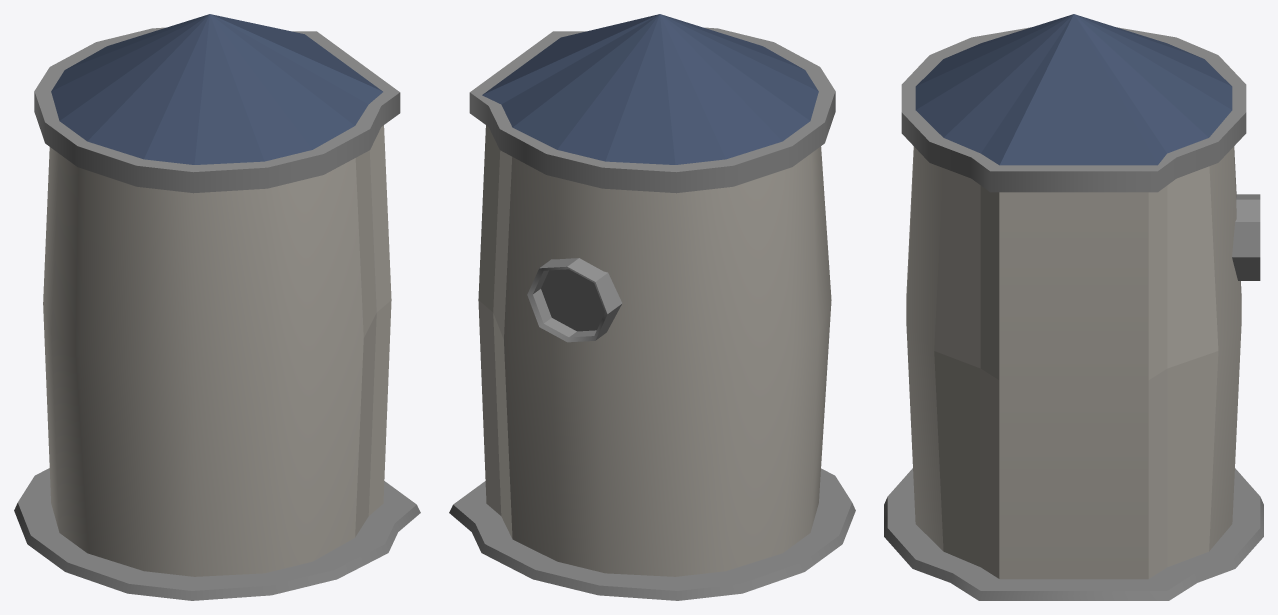
The model's file is p-bld-wtower.glb.
3 views of the same model, side by side, from view 1: azimuth 30°, elevation 25°; view 2: azimuth 150°, elevation 25°; view 3: azimuth 270°, elevation 25° (orthographic).
Parts seen in each view (by area): view 1: Cube-col; view 2: Cube-col; view 3: Cube-col.
Part boxes in pixels (x1,y1,x2,y2): Cube-col: (14,14,420,600); Cube-col: (449,14,855,600); Cube-col: (884,14,1263,600).
Size of the model in its own units: 8.16 by 12 by 8.16.
